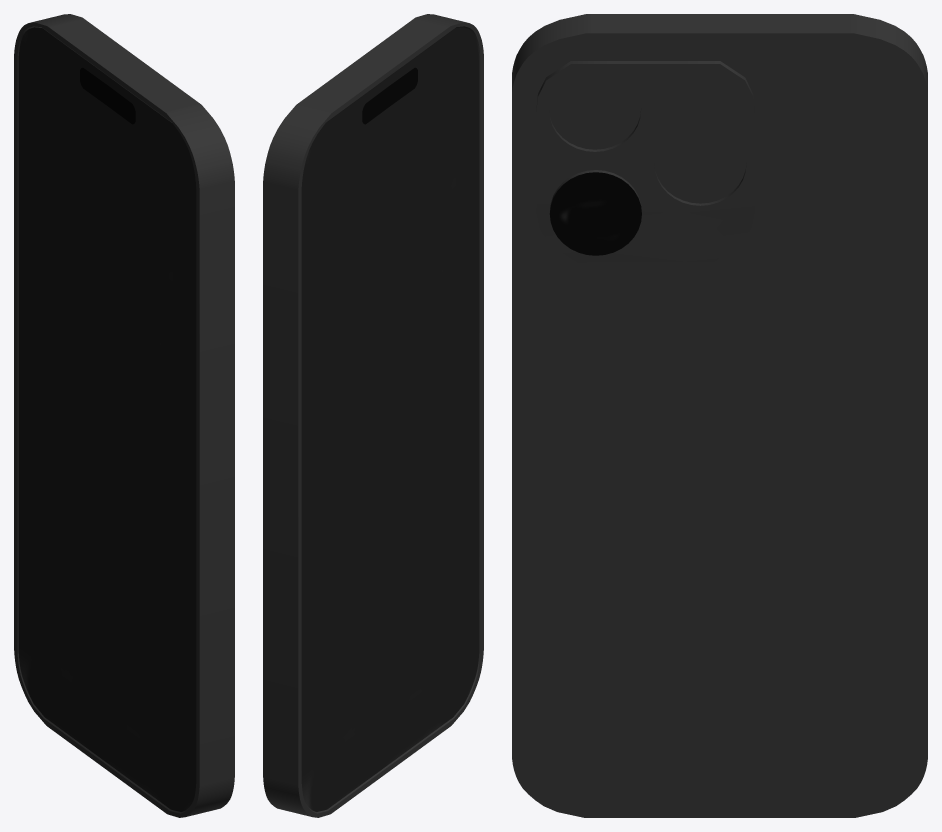
Rendered from phone.glb.
3 renders of one model, left to right at view 1: azimuth 30°, elevation 25°; view 2: azimuth 150°, elevation 25°; view 3: azimuth 270°, elevation 25°, orthographic. The views are drawn at different scales.
Visible parts, largest first — view 1: Cube; view 2: Cube; view 3: Cube.
Boxes of the visible parts, x1=… form: Cube: x1=14, y1=14, x2=234, y2=817; Cube: x1=263, y1=14, x2=483, y2=817; Cube: x1=512, y1=14, x2=927, y2=817.
Size of the model in its own units: 0.1028 by 1.52 by 0.73.
Materials: 1 (1 with a texture image).
